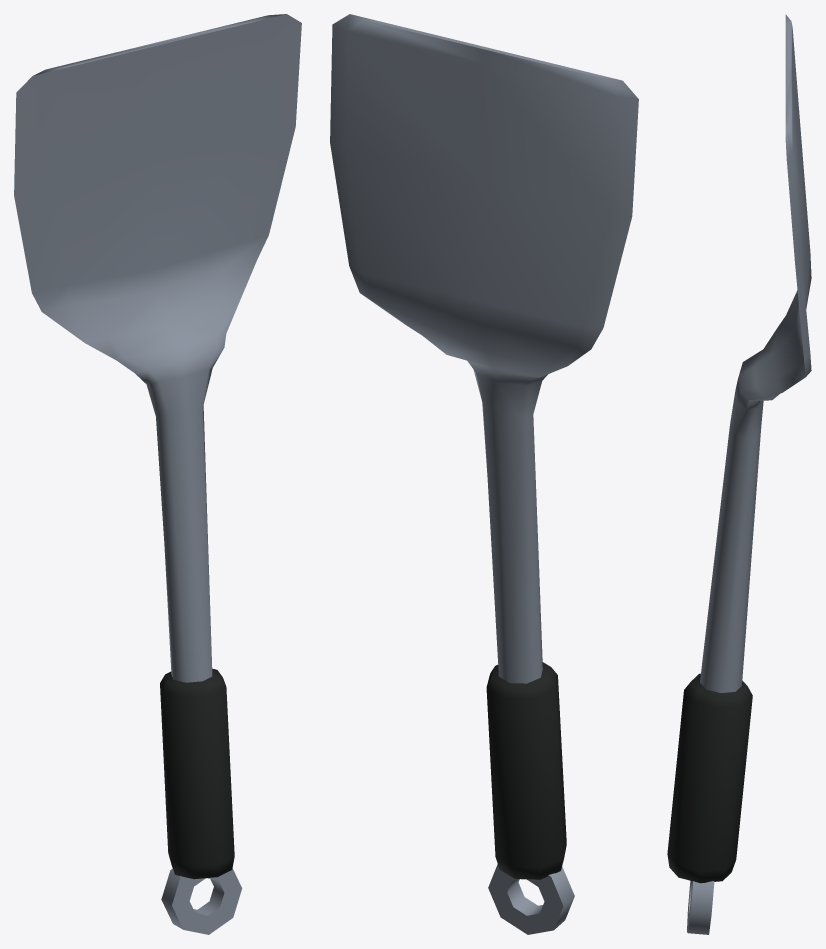
Rendered from cooking_assets_spatula.glb.
3 renders of one model, left to right at view 1: azimuth 30°, elevation 25°; view 2: azimuth 150°, elevation 25°; view 3: azimuth 270°, elevation 25°, orthographic. The views are drawn at different scales.
Visible parts, largest first — view 1: cutensils_spatula_Cylinder.001; view 2: cutensils_spatula_Cylinder.001; view 3: cutensils_spatula_Cylinder.001.
Part boxes in pixels (x1,y1,x2,y2): cutensils_spatula_Cylinder.001: (14, 14, 301, 934); cutensils_spatula_Cylinder.001: (330, 14, 638, 934); cutensils_spatula_Cylinder.001: (667, 14, 811, 934).
Size of the model in its own units: 2.51 by 7.2 by 1.1.
Materials: 1 (1 with a texture image).
